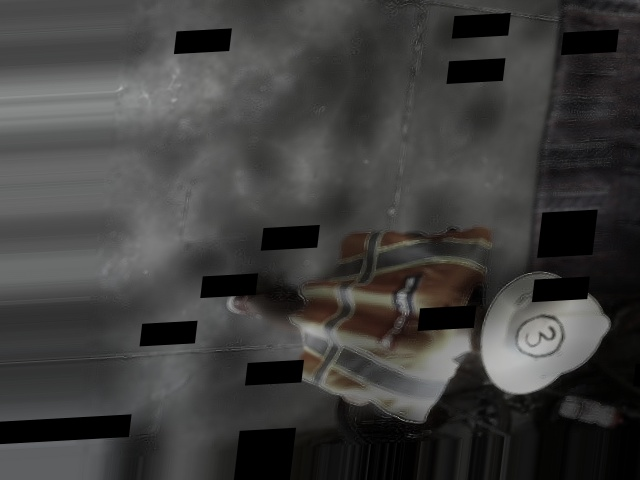three: (512, 313, 566, 359)
